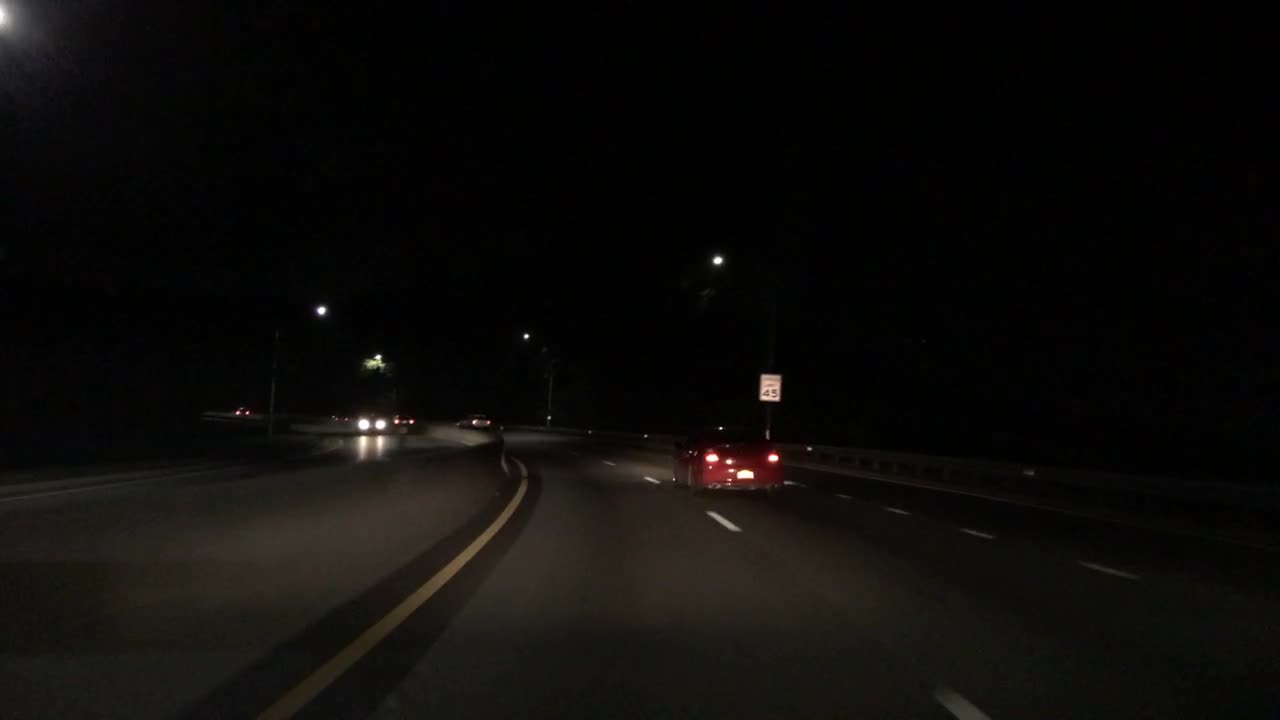car: (670, 423, 786, 498), (352, 408, 391, 437), (453, 413, 492, 430), (391, 411, 418, 425), (232, 406, 253, 418)
traffic sign: (759, 372, 781, 401)
